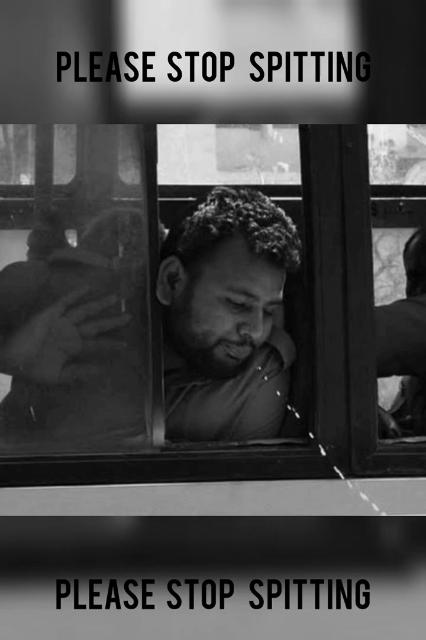spit: (180, 264, 418, 521)
